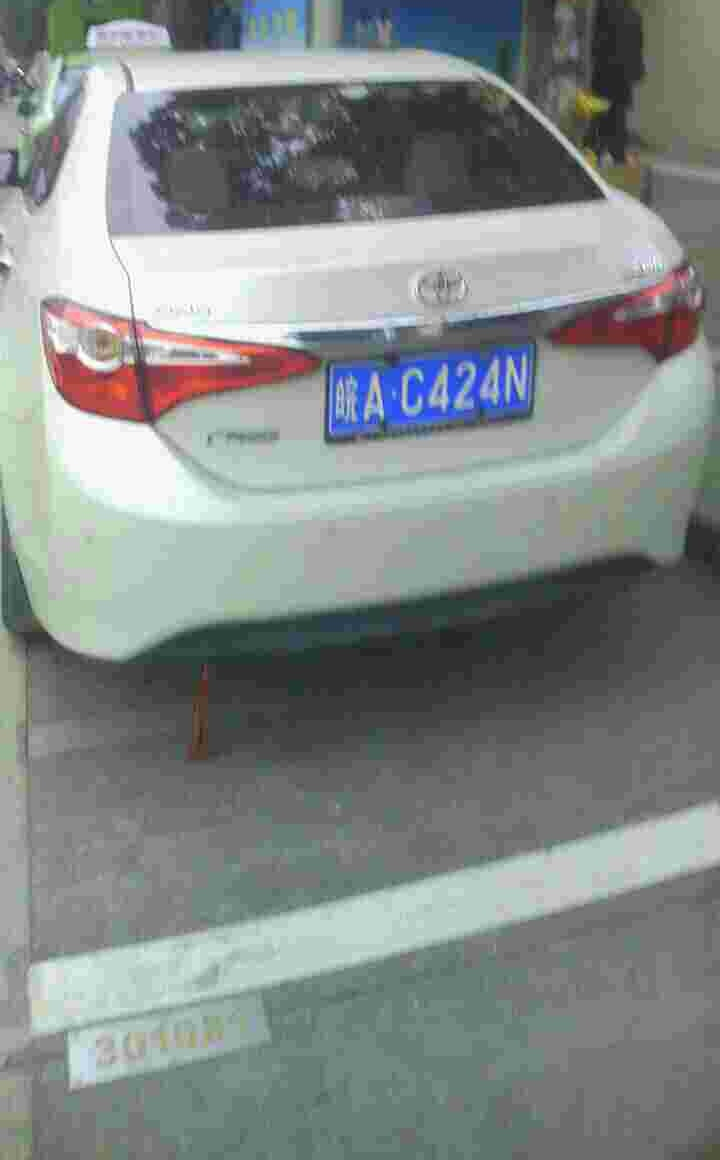plate: (332, 339, 539, 439)
